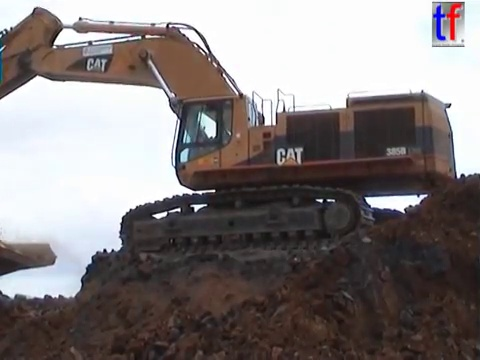excavator: (1, 4, 461, 257)
truck: (1, 237, 60, 280)
